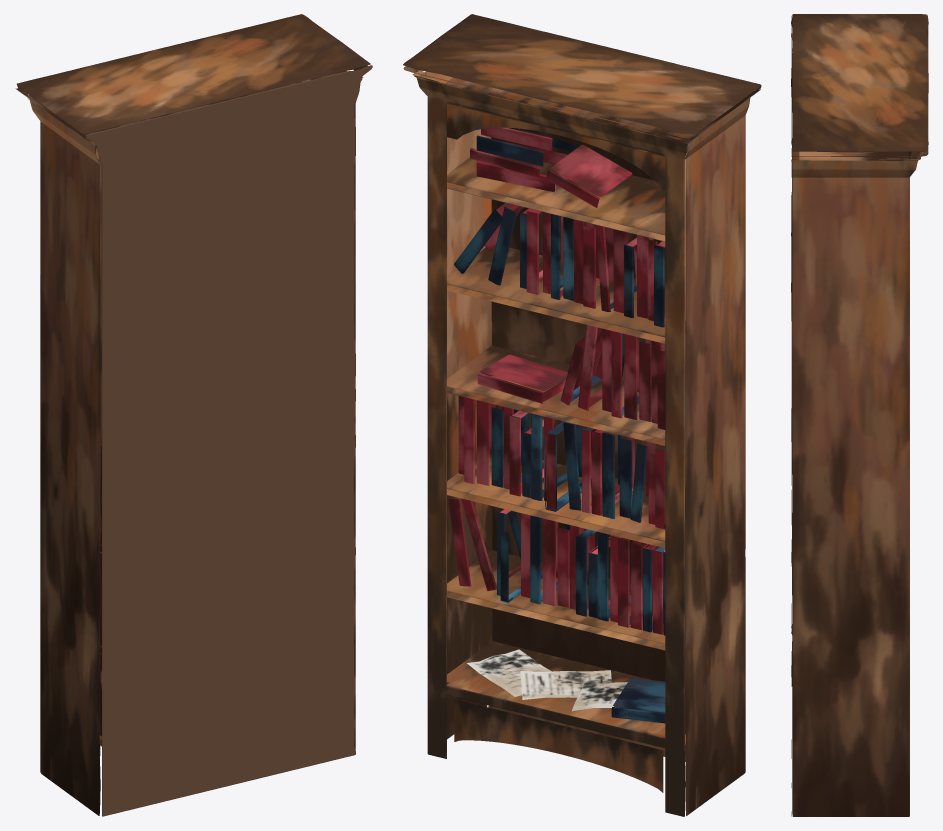
Rendered from Bookshelf_texture.fbx.
3 renders of one model, left to right at view 1: azimuth 30°, elevation 25°; view 2: azimuth 150°, elevation 25°; view 3: azimuth 270°, elevation 25°, orthographic. The views are drawn at different scales.
Parts seen in each view (by area): view 1: Old_Dusty_Bookshelf; view 2: Old_Dusty_Bookshelf; view 3: Old_Dusty_Bookshelf.
Part boxes in pixels (left/top/right/bottom): Old_Dusty_Bookshelf: left=15, top=14, right=372, bottom=816; Old_Dusty_Bookshelf: left=403, top=14, right=761, bottom=816; Old_Dusty_Bookshelf: left=791, top=14, right=928, bottom=816.
Bounding box in the file's own units: 91.99 × 208 × 38.65.
Materials: 1 (1 with a texture image).
